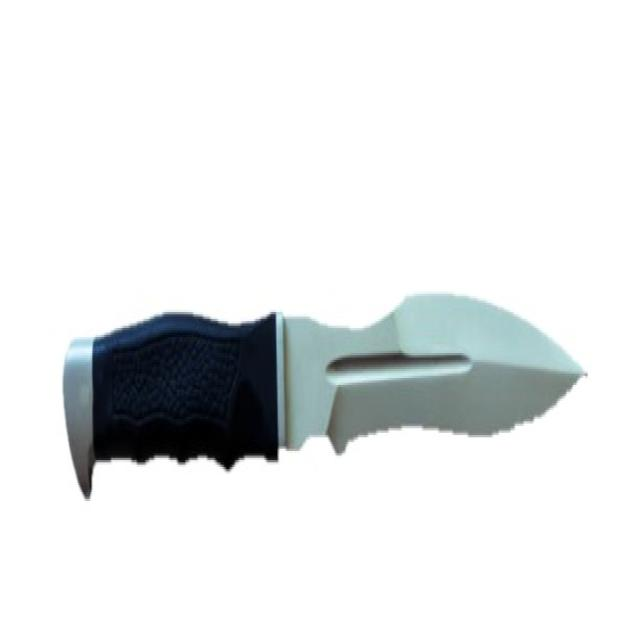knife: (59, 280, 596, 525)
